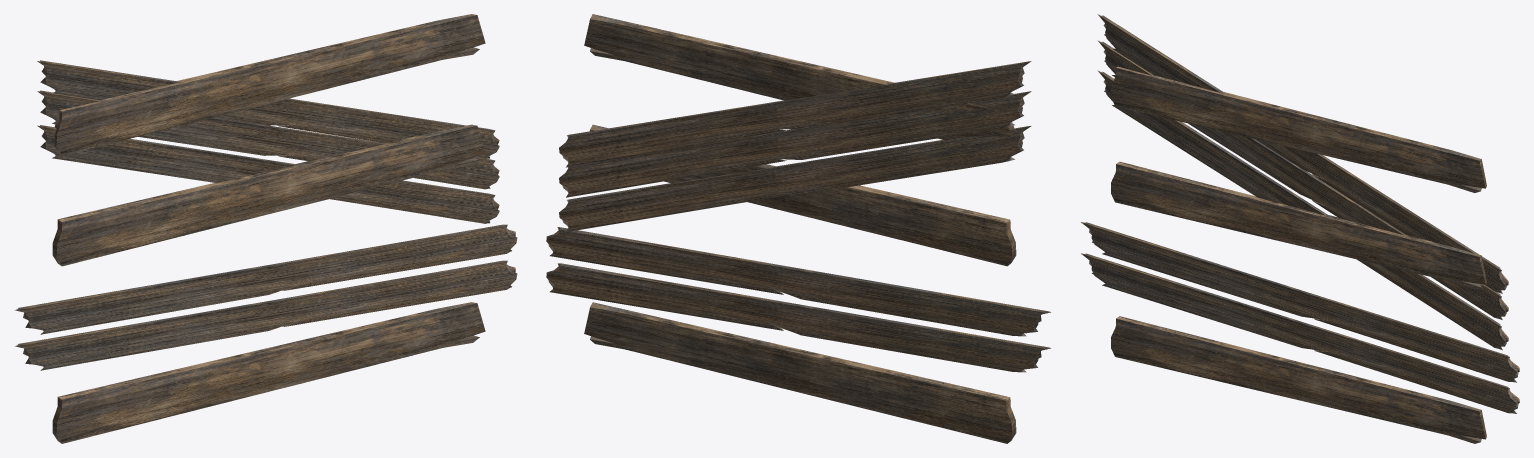
File: woods.fbx
3 renders of one model, left to right at view 1: azimuth 30°, elevation 25°; view 2: azimuth 150°, elevation 25°; view 3: azimuth 330°, elevation 25°, orthographic. The views are drawn at different scales.
Parts seen in each view (by area): view 1: plank_02.002, plank_02.001, plank_02, plank_03.002, plank_03.004, plank_03.003, plank_03, plank_03.001; view 2: plank_02.002, plank_03.004, plank_03.002, plank_03, plank_03.003, plank_03.001, plank_02, plank_02.001; view 3: plank_02.002, plank_02.001, plank_02, plank_03.002, plank_03.004, plank_03.003, plank_03, plank_03.001.
Boxes of the visible parts, x1,y1,x2,y2 form: plank_02.002: [52, 302, 485, 443]; plank_02.001: [52, 124, 485, 266]; plank_02: [54, 14, 485, 155]; plank_03.002: [15, 224, 517, 334]; plank_03.004: [15, 260, 517, 370]; plank_03.003: [37, 125, 499, 223]; plank_03: [37, 60, 499, 158]; plank_03.001: [37, 90, 499, 189]; plank_02.002: [584, 302, 1016, 443]; plank_03.004: [546, 263, 1050, 372]; plank_03.002: [546, 227, 1050, 336]; plank_03: [559, 61, 1031, 167]; plank_03.003: [559, 126, 1031, 231]; plank_03.001: [559, 91, 1031, 197]; plank_02: [584, 14, 1014, 140]; plank_02.001: [589, 124, 1016, 266]; plank_02.002: [1111, 316, 1486, 443]; plank_02.001: [1111, 161, 1486, 289]; plank_02: [1111, 66, 1486, 192]; plank_03.002: [1081, 222, 1519, 382]; plank_03.004: [1081, 253, 1519, 413]; plank_03.003: [1097, 70, 1508, 350]; plank_03: [1097, 14, 1508, 293]; plank_03.001: [1097, 40, 1508, 319].
Size of the model in its own units: 477 by 350 by 14.11.
1 material, 1 textured.
